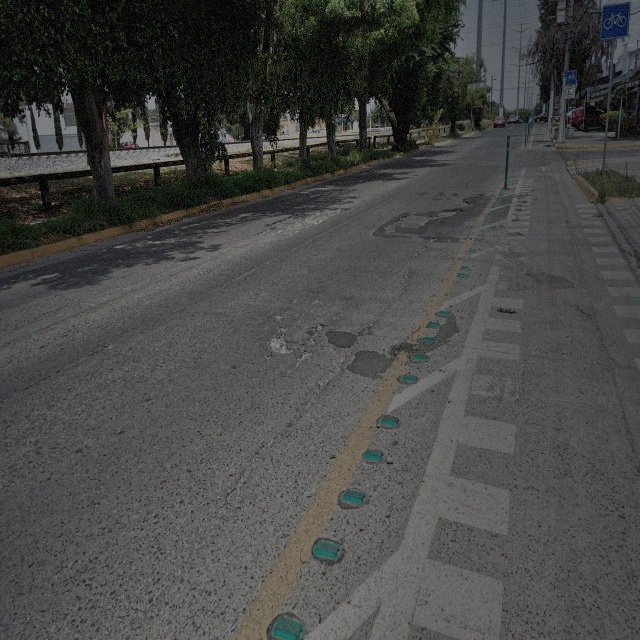pothole: (397, 208, 458, 229), (269, 331, 292, 355), (295, 344, 314, 366), (497, 304, 517, 317), (314, 320, 327, 330)
